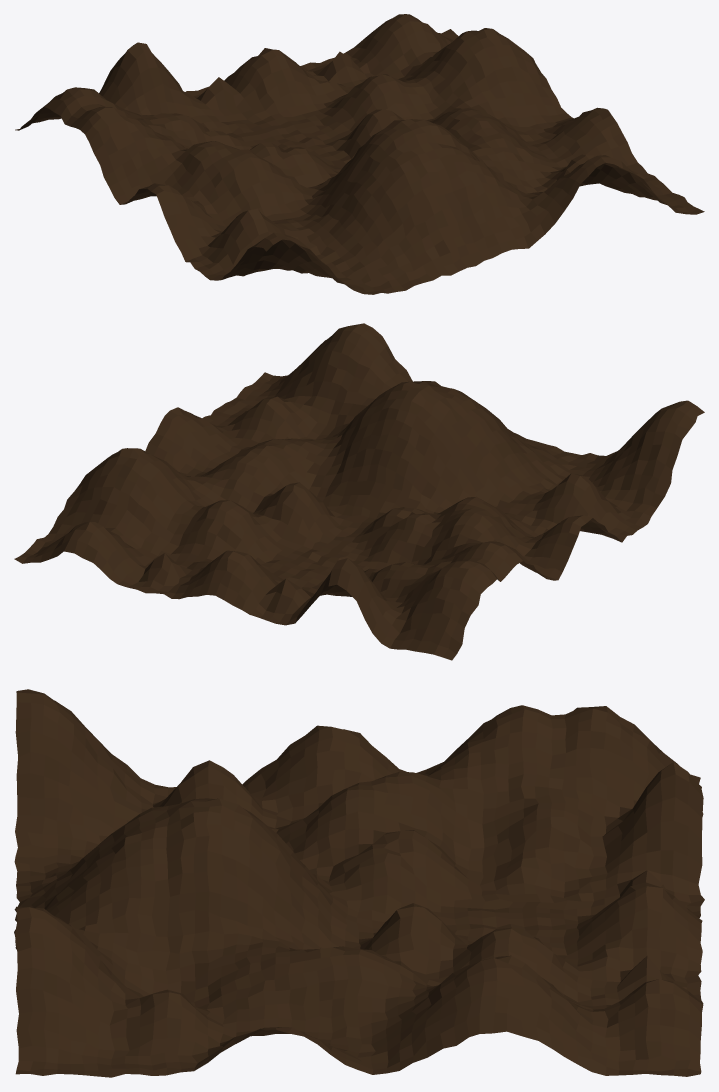
Rendered from trashlandbase-actual.fbx.
The picture shows the model from 3 angles, top to bottom: view 1: azimuth 30°, elevation 25°; view 2: azimuth 150°, elevation 25°; view 3: azimuth 270°, elevation 25°; orthographic projection. The views are drawn at different scales.
Visible parts, largest first — view 1: Plane001; view 2: Plane001; view 3: Plane001.
Part boxes in pixels (x1=…): Plane001: x1=15, y1=14, x2=704, y2=294; Plane001: x1=14, y1=323, x2=704, y2=660; Plane001: x1=14, y1=689, x2=704, y2=1077.
Size of the model in its own units: 20176 by 4267 by 20175.
